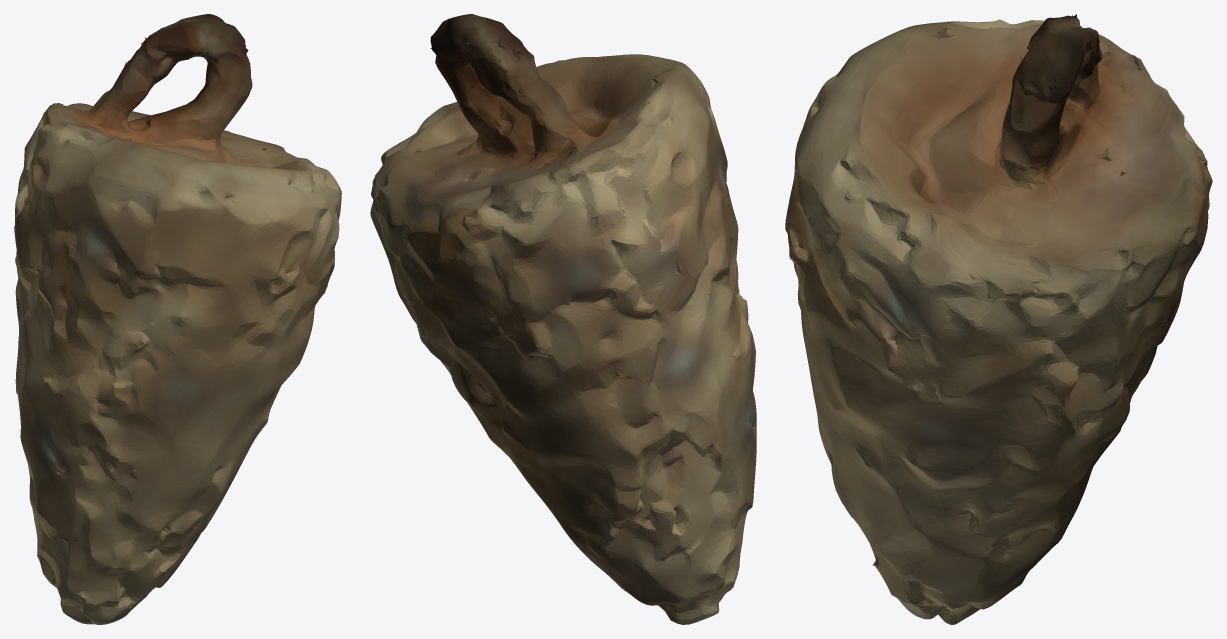
The picture shows the model from 3 angles, left to right: view 1: azimuth 30°, elevation 25°; view 2: azimuth 150°, elevation 25°; view 3: azimuth 270°, elevation 25°; orthographic projection. The views are drawn at different scales.
Visible parts, largest first — view 1: 2018_41_226_1; view 2: 2018_41_226_1; view 3: 2018_41_226_1.
Part boxes in pixels (left/top/right/bottom): 2018_41_226_1: left=14, top=14, right=341, bottom=624; 2018_41_226_1: left=370, top=14, right=756, bottom=624; 2018_41_226_1: left=785, top=14, right=1212, bottom=624.
Bounding box in the file's own units: 0.0958 × 0.1624 × 0.0924.
